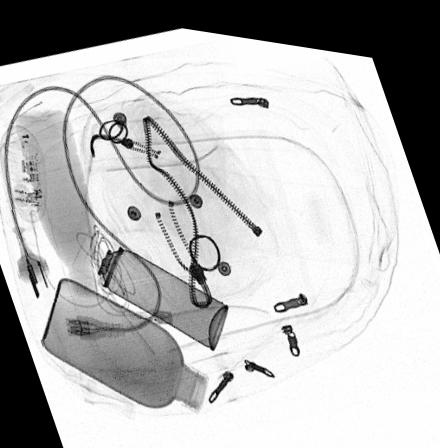Sprayer: (72, 227, 227, 343)
